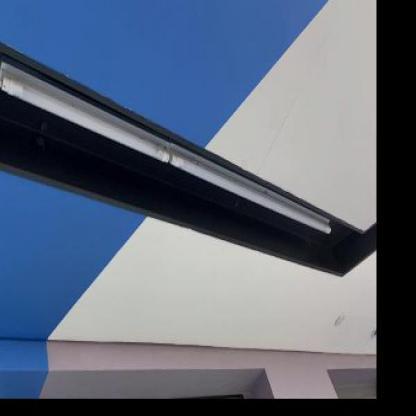light_off: (0, 30, 338, 247)
